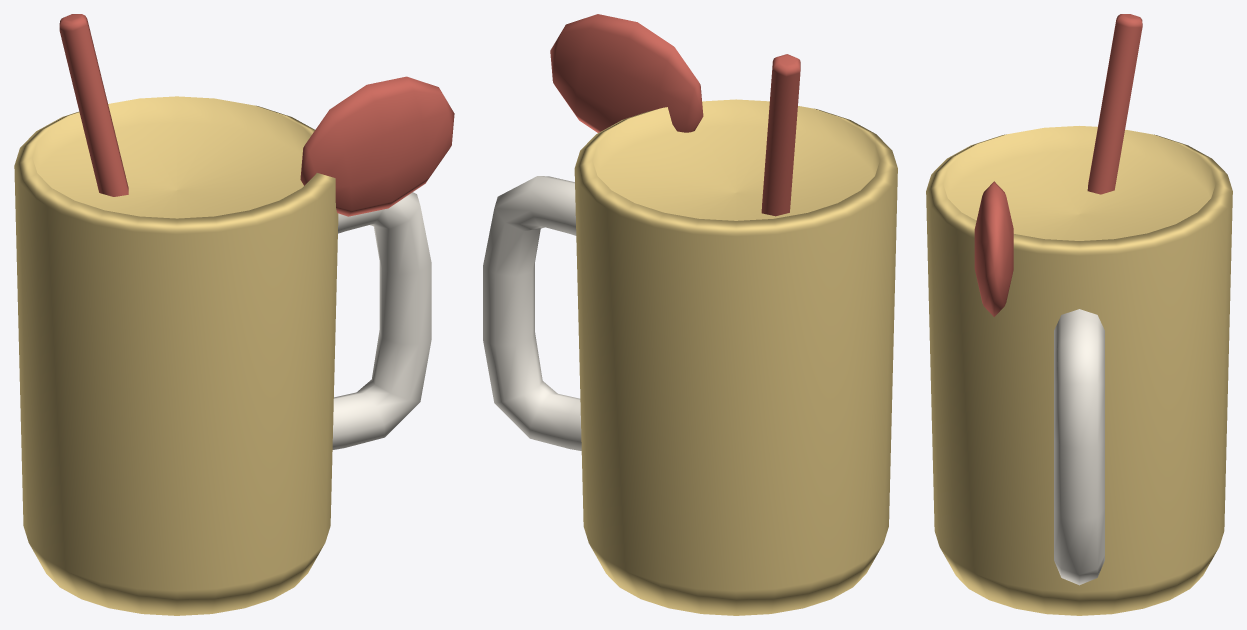
The model's file is apple_smoothie.glb.
The picture shows the model from 3 angles, left to right: view 1: azimuth 30°, elevation 25°; view 2: azimuth 150°, elevation 25°; view 3: azimuth 270°, elevation 25°; orthographic projection. The views are drawn at different scales.
Parts seen in each view (by area): view 1: apple_smoothie_mesh; view 2: apple_smoothie_mesh; view 3: apple_smoothie_mesh.
Part boxes in pixels (x1,y1,x2,y2): apple_smoothie_mesh: (14,14,454,615); apple_smoothie_mesh: (483,14,897,615); apple_smoothie_mesh: (926,14,1232,615).
Size of the model in its own units: 0.2511 by 0.331 by 0.18.
